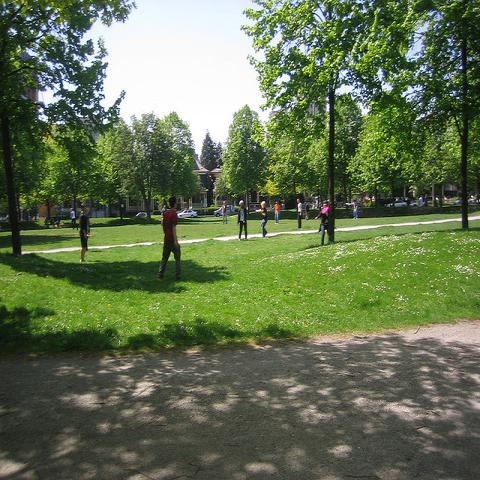car: (214, 205, 235, 217), (384, 200, 407, 208), (177, 210, 198, 218), (410, 202, 424, 207), (136, 212, 146, 217), (469, 197, 475, 202)
